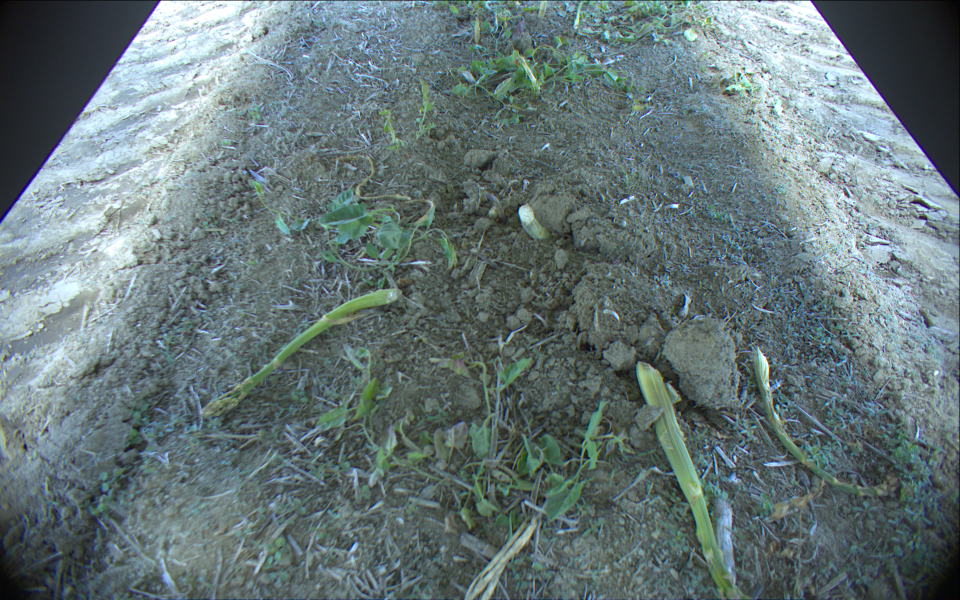aspa: (197, 287, 404, 423), (636, 358, 748, 600), (752, 348, 900, 501), (324, 155, 412, 203), (518, 201, 542, 240), (573, 1, 586, 29), (538, 1, 545, 18)
